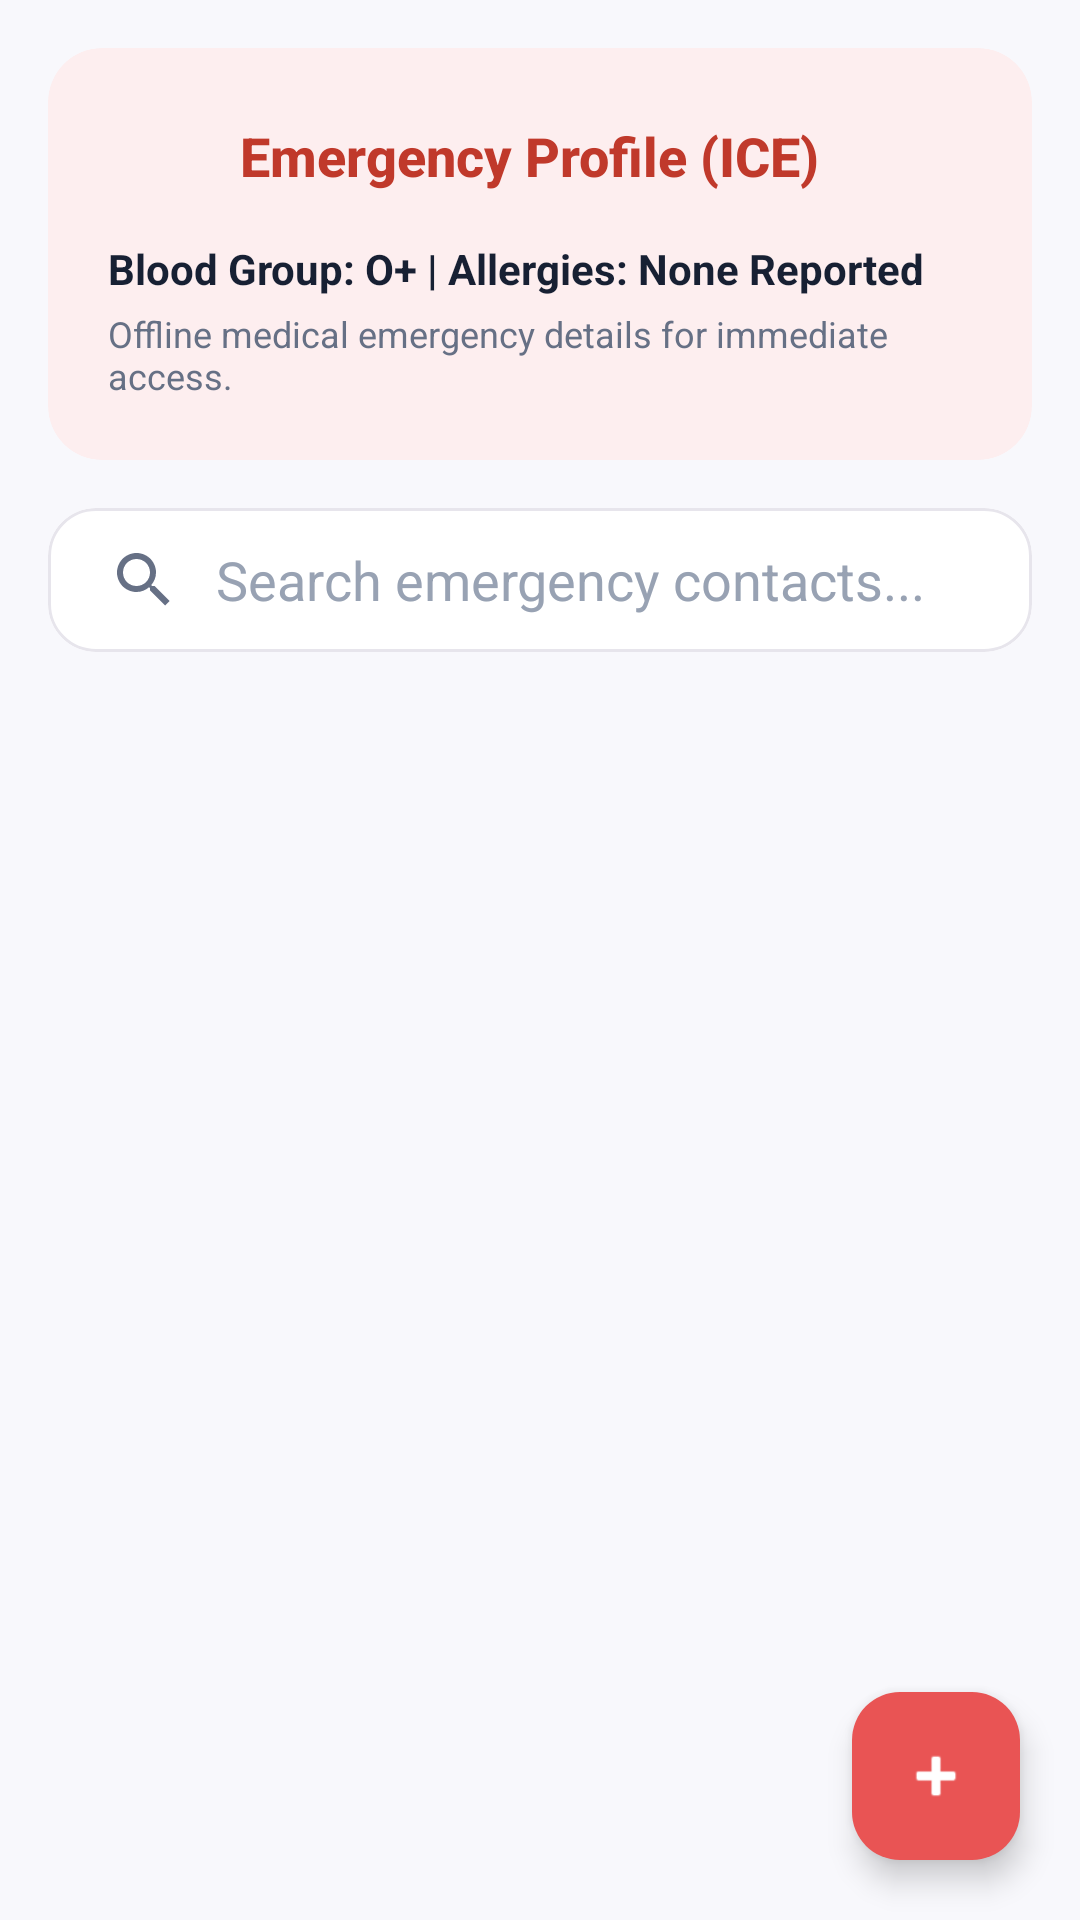

Where icons sit on this 1080x1920 app screen, as box=[x1, y1, x2, y2]:
Add Emergency Contact: box=[852, 1692, 1020, 1860]
